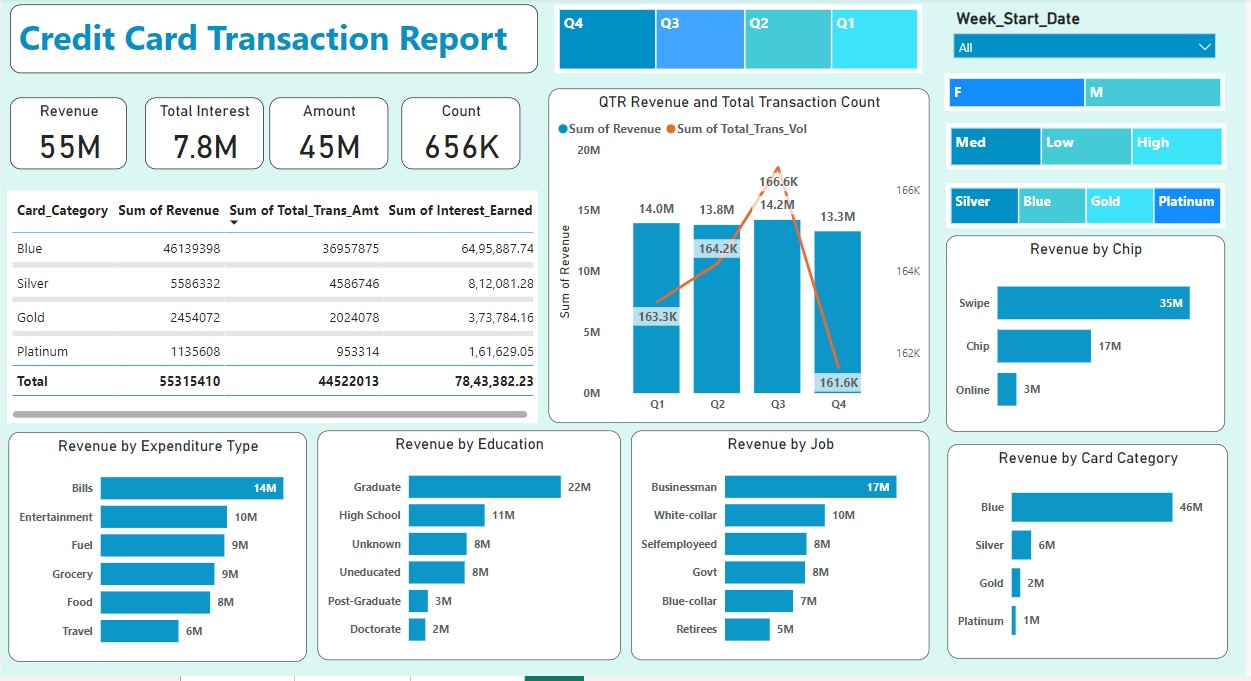

Layout of this report page (visuals, bound fields, positions):
{"tool":"powerbi","page":{"name":"Page 2","canvas":[1375,751],"ordinal":1},"visuals":[{"type":"textbox","box":[10,8.3,584,76.3],"z":0},{"type":"lineStackedColumnComboChart","title":"QTR Revenue and Total Transaction Count","fields":{"Y":["Sum(credit_card.Revenue)"],"Category":["credit_card.Qtr"],"Y2":["Sum(credit_card.Total_Trans_Vol)"]},"box":[605.6,101.2,421.4,370],"z":1000},{"type":"barChart","title":"Revenue by Expenditure Type","fields":{"Y":["Sum(credit_card.Revenue)"],"Category":["credit_card.Exp_Type"]},"box":[7.7,481.1,330,253.8],"z":2000},{"type":"barChart","title":"Revenue by Education","fields":{"Y":["Sum(credit_card.Revenue)"],"Category":["customer.Education_Level"]},"box":[350.1,479.5,335.1,253.8],"z":3000},{"type":"barChart","title":"Revenue by Job","fields":{"Y":["Sum(credit_card.Revenue)"],"Category":["customer.Customer_Job"]},"box":[696.8,479.5,330.2,253.8],"z":4000},{"type":"barChart","title":"Revenue by Card Category","fields":{"Y":["Sum(credit_card.Revenue)"],"Category":["credit_card.Card_Category"]},"box":[1046.9,494.4,310.3,237.3],"z":5000},{"type":"barChart","title":"Revenue by Chip","fields":{"Y":["Sum(credit_card.Revenue)"],"Category":["credit_card.Use_Chip"]},"box":[1045.2,263.8,308.6,217.3],"z":6000},{"type":"tableEx","fields":{"Values":["credit_card.Card_Category","Sum(credit_card.Revenue)","Sum(credit_card.Total_Trans_Amt)","Sum(credit_card.Interest_Earned)"]},"box":[6.6,214,587.3,257.2],"z":7000},{"type":"card","title":"Revenue","fields":{"Values":["Sum(credit_card.Revenue)"]},"box":[10,111.2,129.4,79.6],"z":8000},{"type":"card","title":"Amount","fields":{"Values":["Sum(credit_card.Total_Trans_Amt)"]},"box":[297,111.2,131.1,79.6],"z":9000},{"type":"card","title":"Total Interest","fields":{"Values":["Sum(credit_card.Interest_Earned)"]},"box":[159.3,111.2,131.1,79.6],"z":10000},{"type":"card","title":"Count","fields":{"Values":["Sum(credit_card.Total_Trans_Vol)"]},"box":[443,111.2,131.1,79.6],"z":11000},{"type":"slicer","fields":{"Values":["credit_card.Week_Start_Date"]},"box":[1043.6,8.3,310.3,76.3],"z":12000},{"type":"treemap","fields":{"Group":["credit_card.Qtr"],"Values":["Avg(credit_card.Client_Num)"]},"box":[612.2,8.3,406.5,76.3],"z":13000},{"type":"treemap","fields":{"Values":["Avg(credit_card.Client_Num)"],"Group":["customer.Gender"]},"box":[1043.6,84.6,310.3,41.5],"z":14000},{"type":"treemap","fields":{"Values":["Avg(credit_card.Client_Num)"],"Group":["credit_card.Card_Category"]},"box":[1045.2,205.7,308.6,49.8],"z":15000},{"type":"treemap","fields":{"Values":["Avg(credit_card.Client_Num)"],"Group":["customer.IncomeGroup"]},"box":[1045.2,139.4,310.3,51.4],"z":16000}]}

Visuals, with their boxes in screenshot pixels (x1, y1, x2, y2), scaled from the page's 1375x751 canvas onto the 1251x681 screenshot:
textbox: locate(9, 8, 540, 77)
"QTR Revenue and Total Transaction Count" lineStackedColumnComboChart: locate(551, 92, 934, 427)
"Revenue by Expenditure Type" barChart: locate(7, 436, 307, 666)
"Revenue by Education" barChart: locate(319, 435, 623, 665)
"Revenue by Job" barChart: locate(634, 435, 934, 665)
"Revenue by Card Category" barChart: locate(952, 448, 1235, 663)
"Revenue by Chip" barChart: locate(951, 239, 1232, 436)
tableEx - credit_card.Card_Category x Sum(credit_card.Revenue): locate(6, 194, 540, 427)
"Revenue" card: locate(9, 101, 127, 173)
"Amount" card: locate(270, 101, 389, 173)
"Total Interest" card: locate(145, 101, 264, 173)
"Count" card: locate(403, 101, 522, 173)
slicer - credit_card.Week_Start_Date: locate(949, 8, 1232, 77)
treemap - credit_card.Qtr x Avg(credit_card.Client_Num): locate(557, 8, 927, 77)
treemap - Avg(credit_card.Client_Num) x customer.Gender: locate(949, 77, 1232, 114)
treemap - Avg(credit_card.Client_Num) x credit_card.Card_Category: locate(951, 187, 1232, 232)
treemap - Avg(credit_card.Client_Num) x customer.IncomeGroup: locate(951, 126, 1233, 173)
